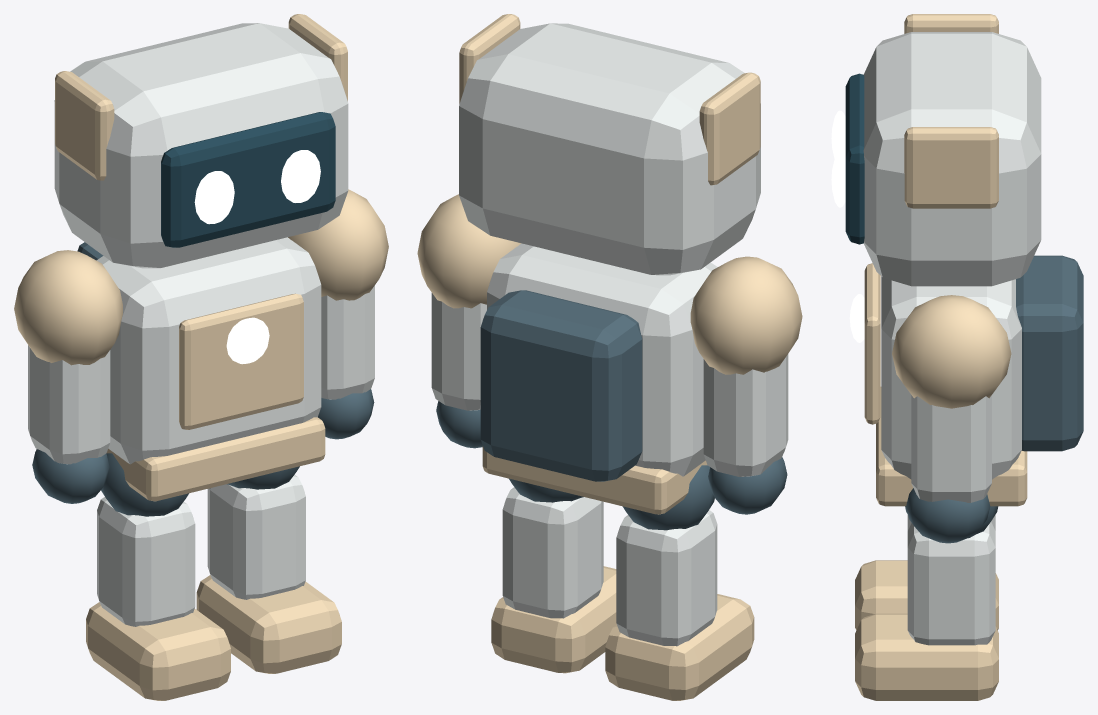
Rendered from atlas.glb.
3 views of the same model, side by side, from view 1: azimuth 30°, elevation 25°; view 2: azimuth 150°, elevation 25°; view 3: azimuth 270°, elevation 25° (orthographic). The views are drawn at different scales.
Parts seen in each view (by area): view 1: Head, Torso, Visor, Chest plate, Leg.003, Leg, Shoulder.003, Boot.003, Boot, Belt, Arm.003, Shoulder (+10 smaller); view 2: Head, Pack, Torso, Leg.003, Leg, Shoulder.003, Boot.003, Arm.003, Boot, Shoulder, Belt, Arm (+6 smaller); view 3: Head, Pack, Shoulder, Torso, Leg, Boot, Arm, Ear fins, Visor, Belt, Boot.003, Hand (+5 smaller).
Boxes of the visible parts, x1,y1,x2,y2 form: Head: (54,23,348,268); Torso: (96,237,321,464); Visor: (161,112,335,247); Chest plate: (179,293,303,429); Leg.003: (97,497,195,626); Leg: (207,474,305,599); Shoulder.003: (14,250,122,365); Boot.003: (86,602,230,700); Boot: (196,575,341,673); Belt: (106,417,325,501); Arm.003: (28,345,110,464); Shoulder: (288,189,388,300); Head: (459,23,760,275); Pack: (480,290,642,481); Torso: (487,243,717,476); Leg.003: (616,510,717,646); Leg: (502,487,603,618); Shoulder.003: (690,256,802,374); Boot.003: (605,594,754,700); Arm.003: (703,354,788,476); Boot: (491,566,616,673); Shoulder: (417,194,520,308); Belt: (482,446,707,514); Arm: (431,293,486,410); Head: (863,32,1041,286); Pack: (1016,255,1083,451); Shoulder: (892,295,1011,408); Torso: (881,276,1021,479); Leg: (907,522,995,645); Boot: (855,613,998,700); Arm: (911,395,991,502); Ear fins: (904,127,998,208); Visor: (845,73,864,244); Belt: (876,387,1027,506); Boot.003: (855,560,998,630); Hand: (906,488,990,543).
Bounding box in the file's own units: 1.16 × 1.85 × 0.717.
